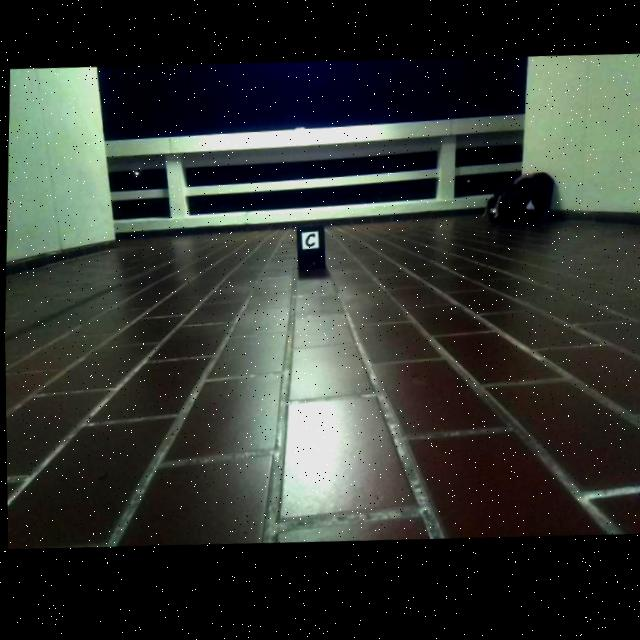C: (304, 237, 314, 251)
